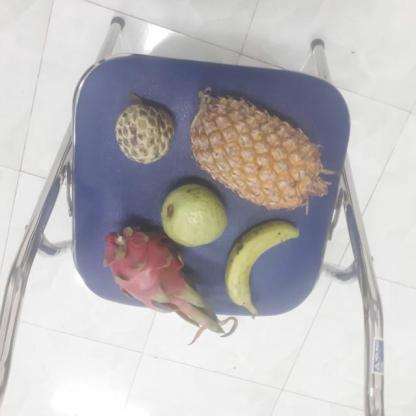annona: (115, 99, 178, 164)
banana: (223, 216, 302, 312)
guava: (161, 182, 232, 247)
pineapple: (188, 92, 329, 210)
pitaya: (109, 224, 200, 312)
